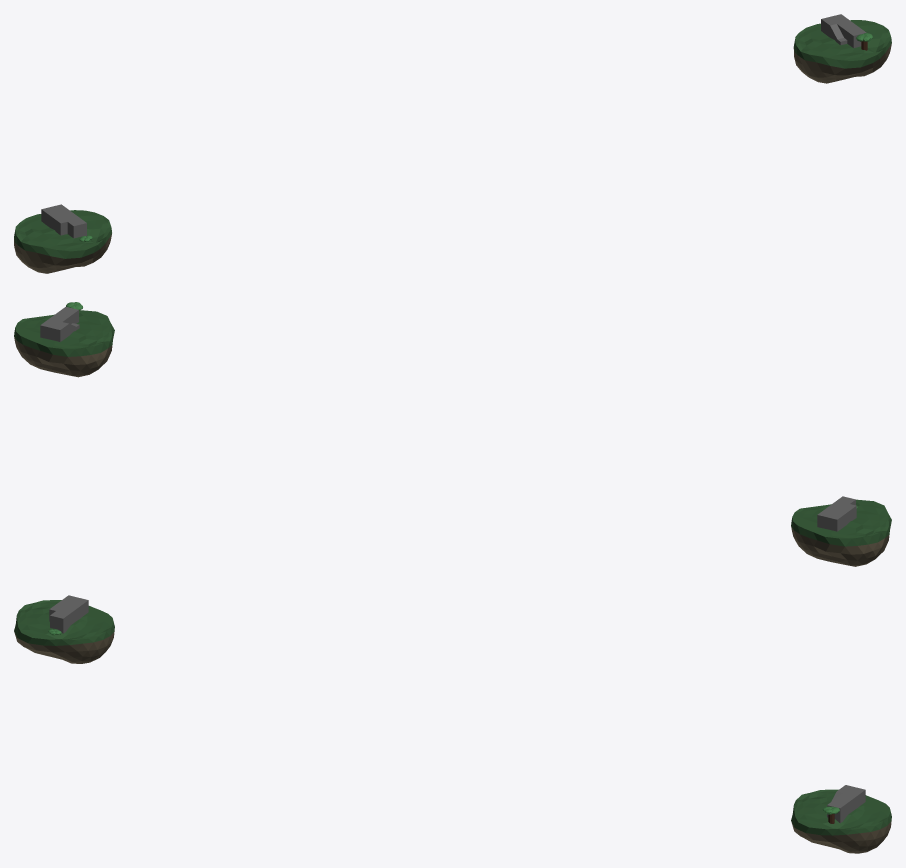
The model's file is Level1_Fin.fbx.
3 views of the same model, one above another, from view 1: azimuth 30°, elevation 25°; view 2: azimuth 150°, elevation 25°; view 3: azimuth 330°, elevation 25° (orthographic).
Visible parts, largest first — view 1: Island_Past_1, Island_Future_1, Ramp_Past, Ramp_Future; view 2: Island_Future_1, Island_Past_1, Ramp_Past, Ramp_Future; view 3: Island_Future_1, Island_Past_1, Ramp_Past, Ramp_Future.
Boxes of the visible parts, x1=… form: Island_Past_1: x1=14, y1=210, x2=111, y2=273; Island_Future_1: x1=793, y1=20, x2=891, y2=83; Ramp_Past: x1=41, y1=204, x2=86, y2=238; Ramp_Future: x1=821, y1=14, x2=866, y2=48; Island_Future_1: x1=14, y1=310, x2=114, y2=377; Island_Past_1: x1=791, y1=499, x2=891, y2=566; Ramp_Past: x1=817, y1=496, x2=856, y2=531; Ramp_Future: x1=40, y1=307, x2=79, y2=341; Island_Future_1: x1=791, y1=789, x2=891, y2=853; Island_Past_1: x1=14, y1=600, x2=114, y2=663; Ramp_Past: x1=49, y1=595, x2=88, y2=633; Ramp_Future: x1=827, y1=785, x2=865, y2=823.
Size of the model in its own units: 279 by 16.28 by 27.14.
